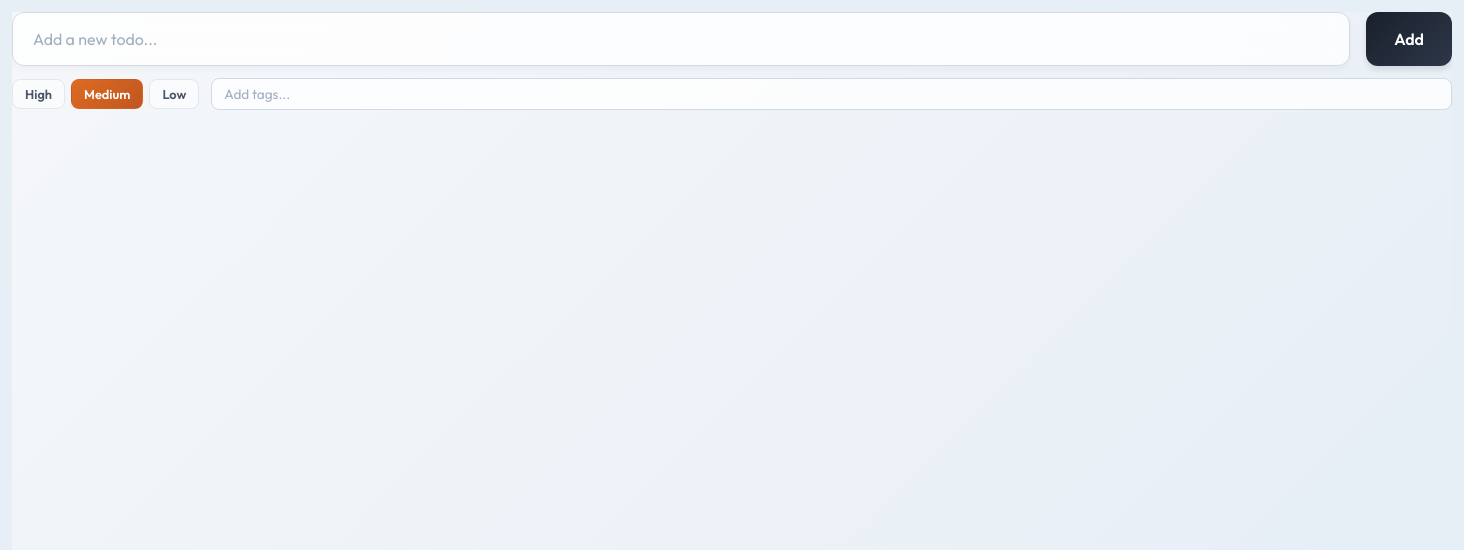
Scenario: TodoInput › should clear duplicate warning when user types
Type "Dup" into the field labelled "Add a new todo" at (681, 39), box [12, 12, 1350, 66]
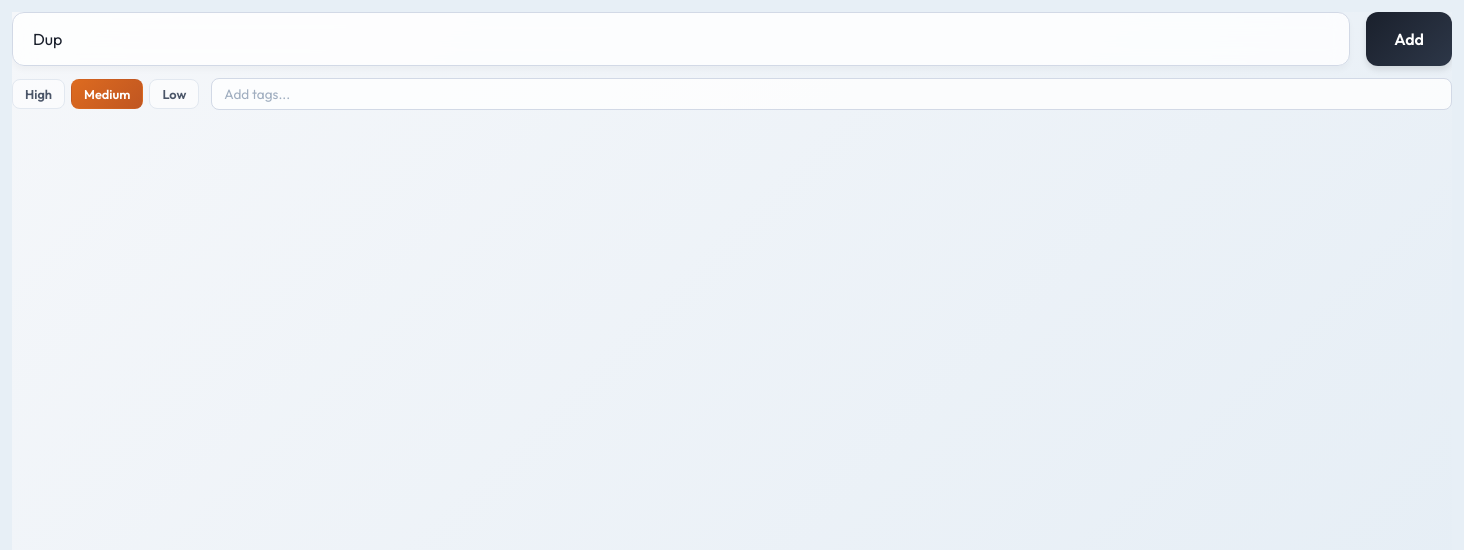
Click the button with aria-label "add todo" at (1409, 39), box [1366, 12, 1452, 66]
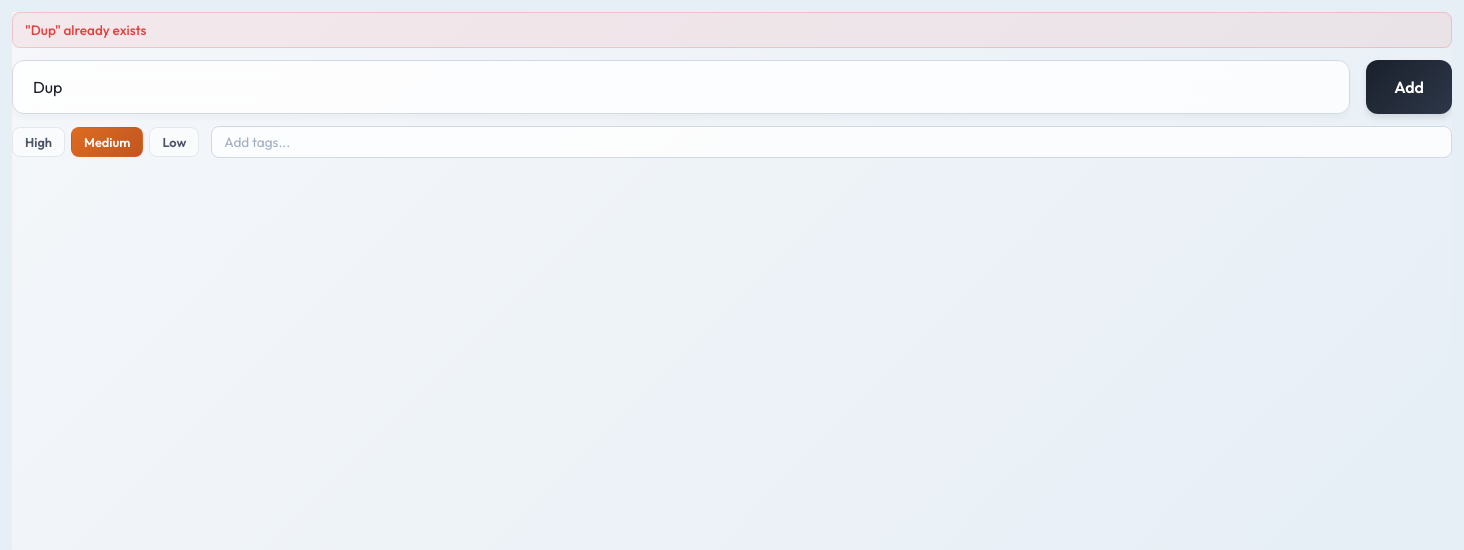
Expected: the message "\"Dup\" already exists" is shown, [12, 12, 1452, 48]
Replace the text in the field named "Add a new todo" with "Dup2" at (681, 87), box [12, 60, 1350, 114]
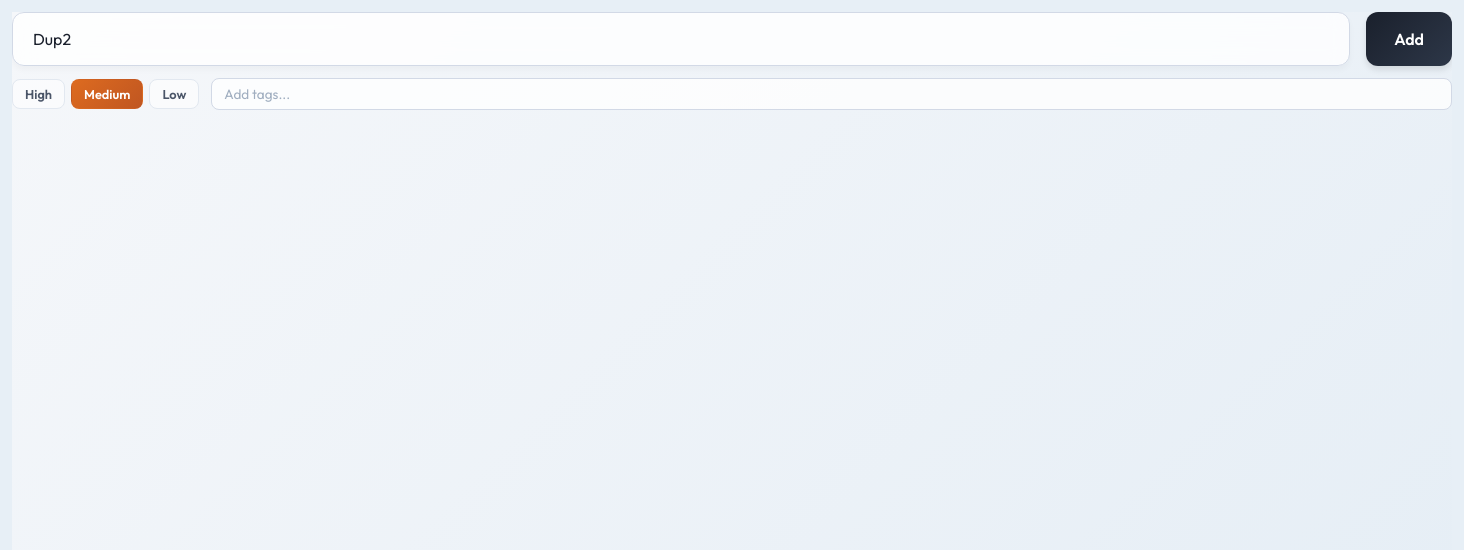
Expected: the message "\"Dup\" already exists" is gone
